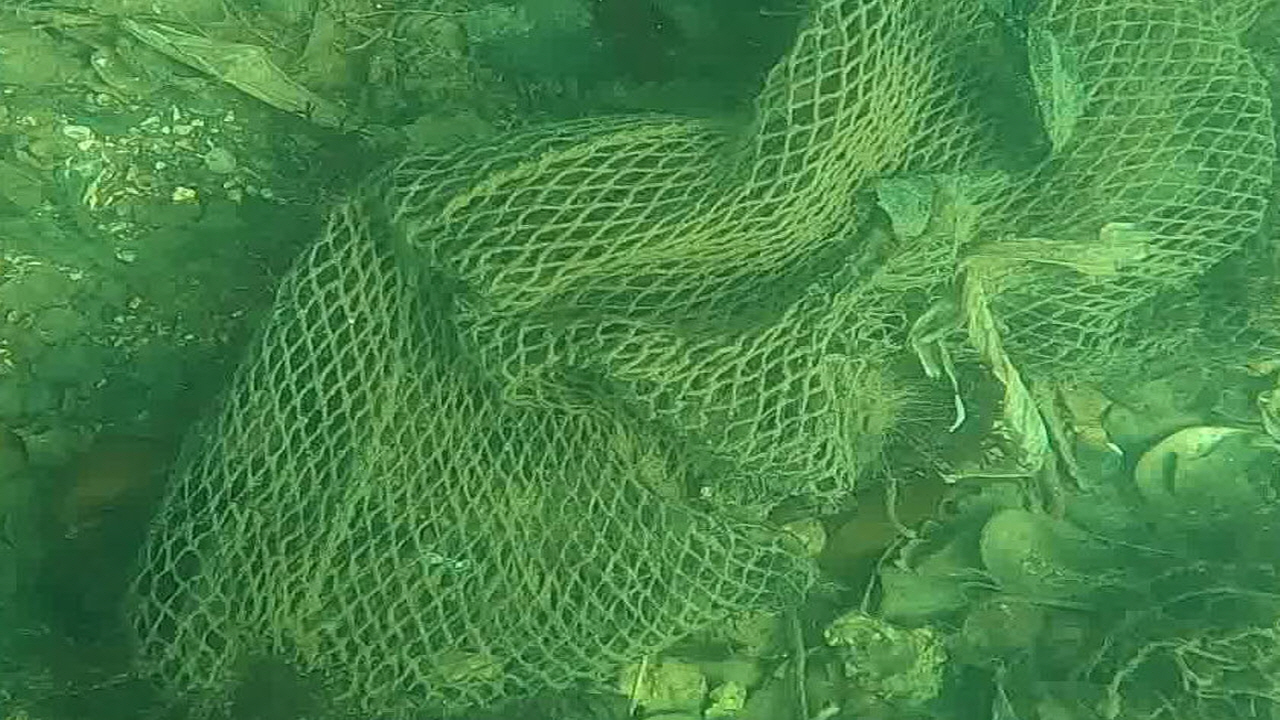fish net: (123, 0, 1280, 714)
